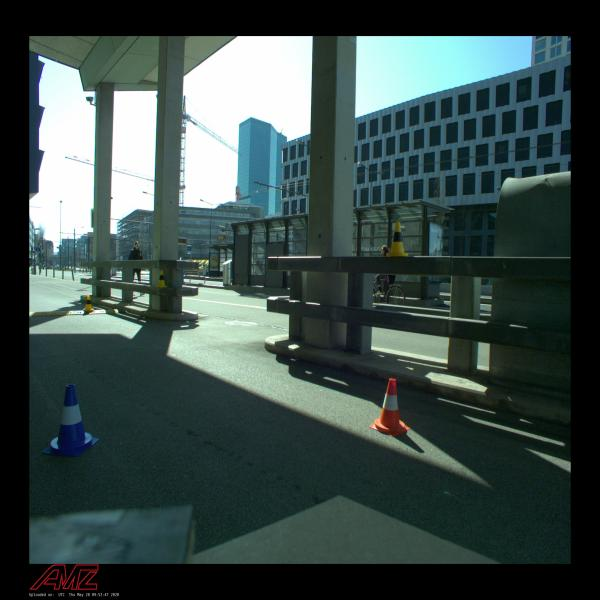blue_cone: (43, 384, 100, 456)
orange_cone: (369, 378, 411, 436)
yellow_cone: (386, 221, 408, 257), (156, 270, 167, 288), (84, 295, 94, 311)
